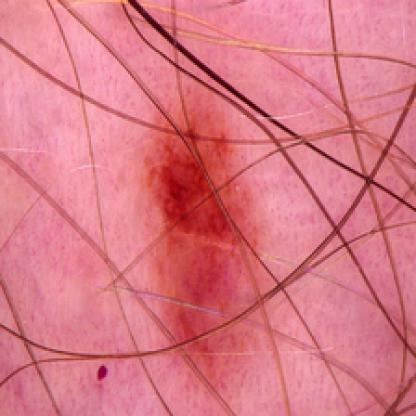benign: (119, 97, 284, 347)
